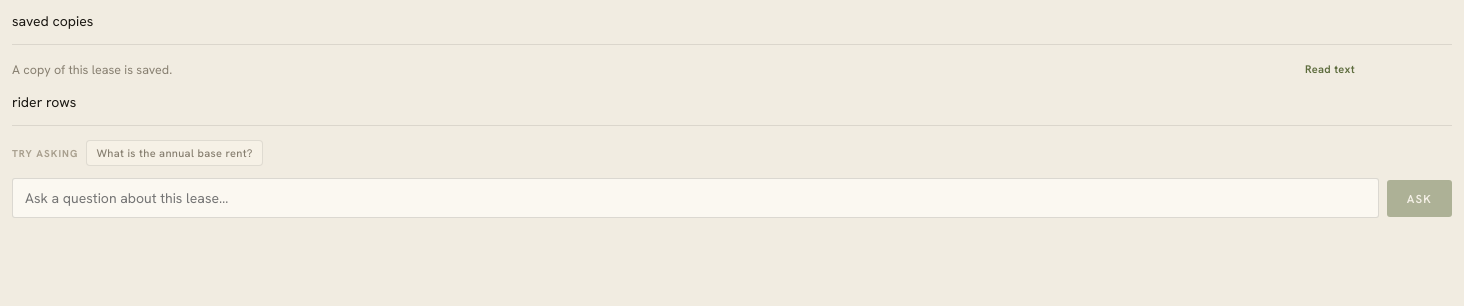
Test: Assistant answers — rendered, not printed › puts savedCopies above the Open row and documents below it, ask box last
What coordinates should you click on to do the following:
click the button "Read text"
I would click on:
 (1330, 69)
Its box is x1=1296 y1=57 x2=1364 y2=81.
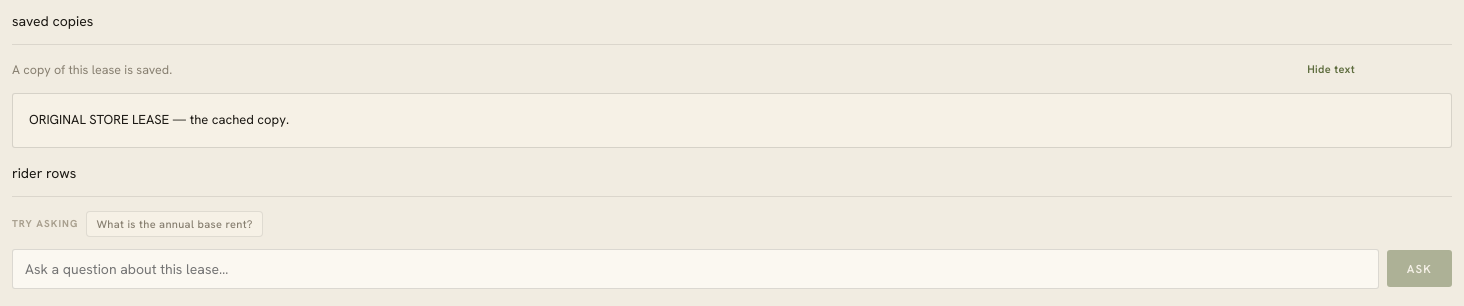
Expected: the text "ORIGINAL STORE LEASE — the cached copy." is shown, x1=12 y1=93 x2=1452 y2=148
